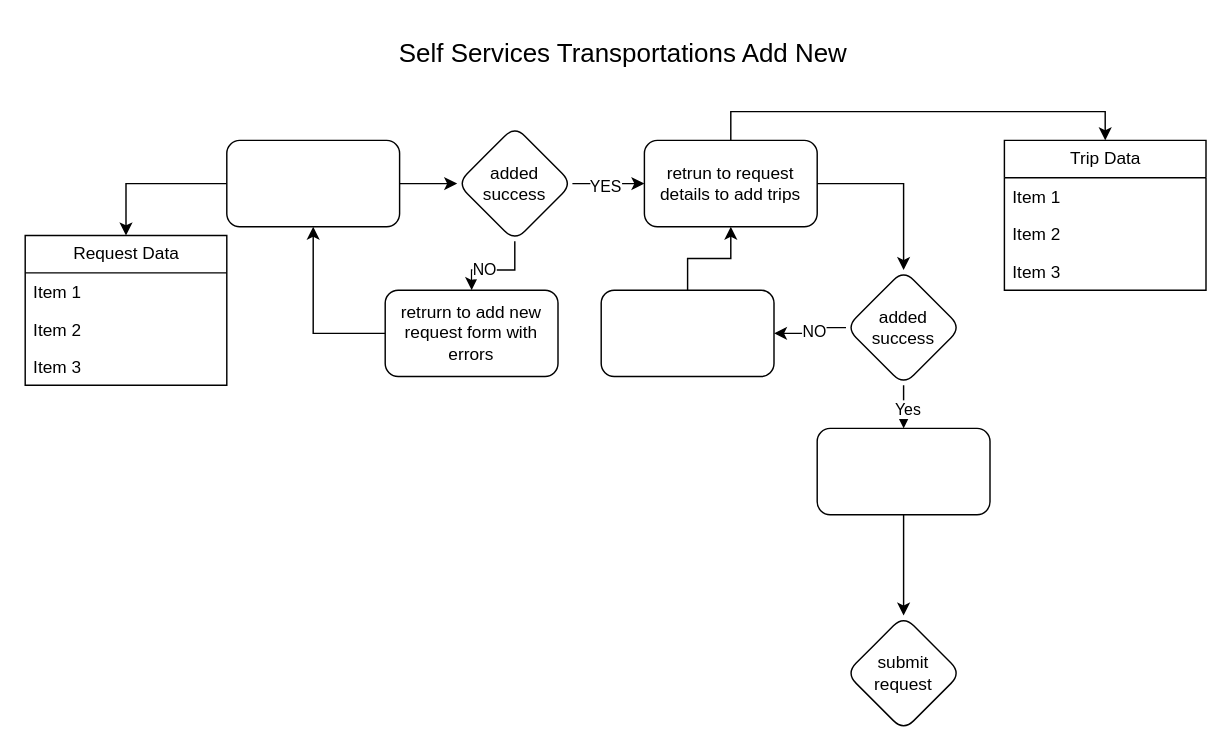
The diagram is 1231 pixels wide and 756 high, and some of its shapes have lost their labels. Here are the shapes that lost their labels. From the top down, the centre of each, then its label:
At (312,183): "Add New Request Form".
At (687,333): "return to add new trip form with errors".
At (903,471): "return to request details with trip added succ".
